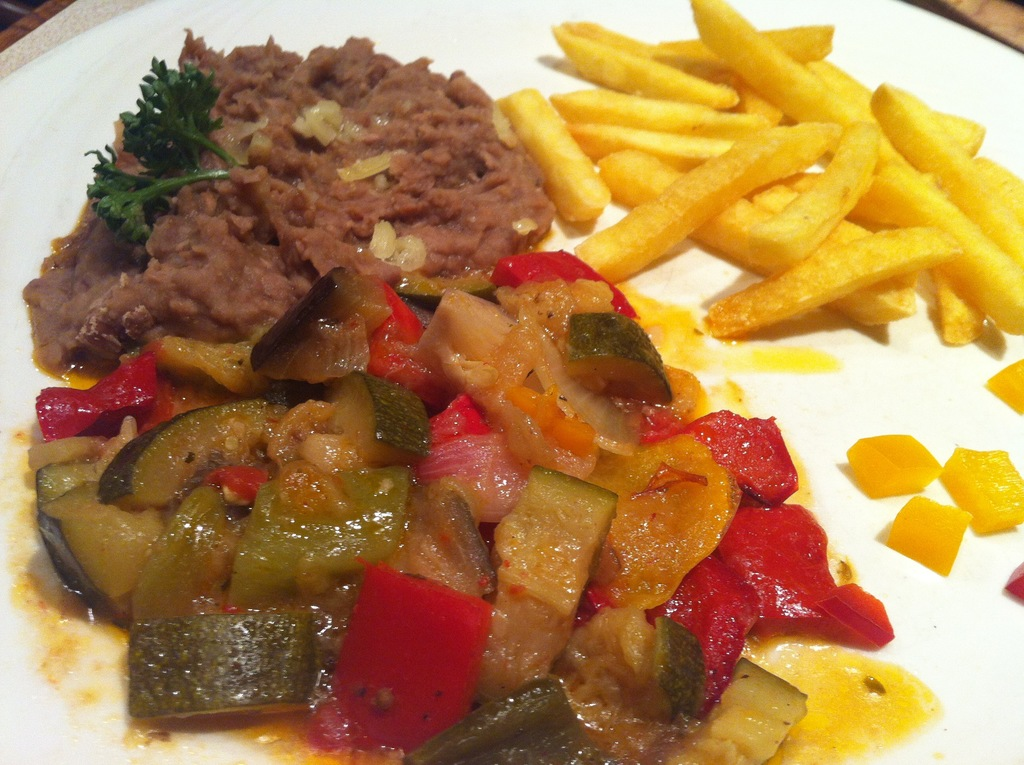French fries: (492, 0, 997, 340)
